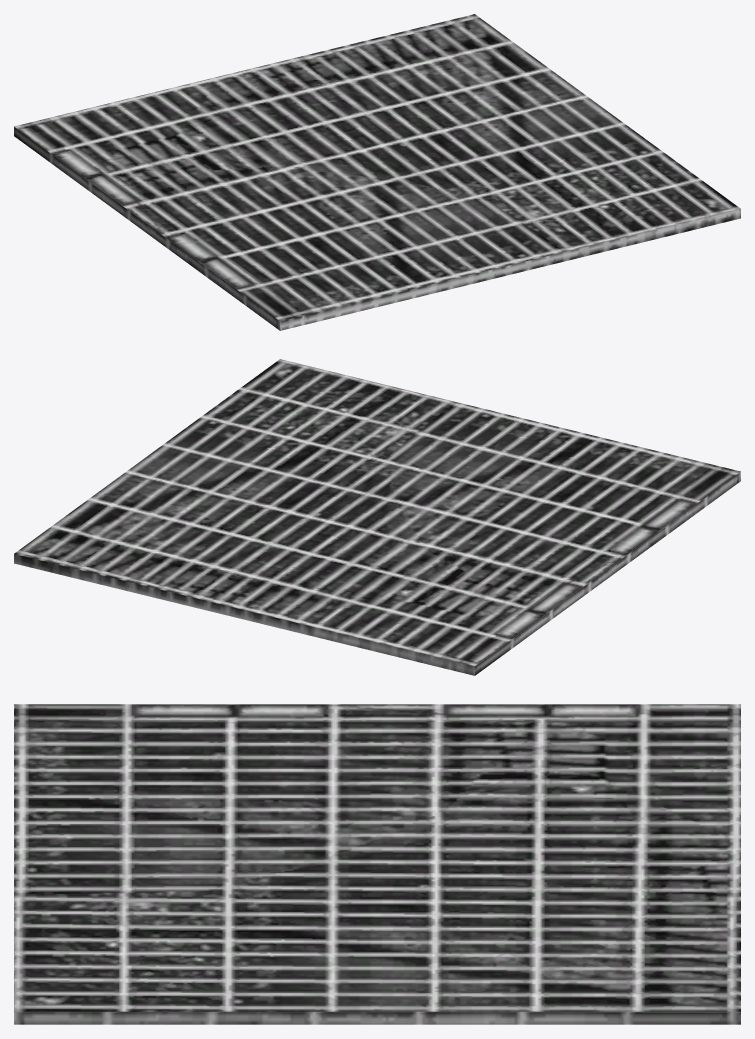
Rendered from basement_floor_vent.fbx.
3 views of the same model, one above another, from view 1: azimuth 30°, elevation 25°; view 2: azimuth 150°, elevation 25°; view 3: azimuth 270°, elevation 25° (orthographic). The views are drawn at different scales.
Visible parts, largest first — view 1: mesh_0, mesh_1; view 2: mesh_0, mesh_1; view 3: mesh_0, mesh_1.
Part boxes in pixels (x1,y1,x2,y2): mesh_0: (14, 14, 740, 330); mesh_1: (14, 120, 306, 321); mesh_0: (14, 359, 740, 675); mesh_1: (448, 465, 740, 666); mesh_0: (14, 722, 740, 1024); mesh_1: (14, 704, 740, 722).
Size of the model in its own units: 100 by 2 by 100.
2 materials, 2 textured.
